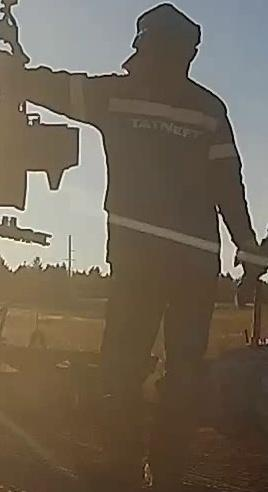gloves: (232, 240, 265, 305)
vest: (69, 66, 226, 284)
